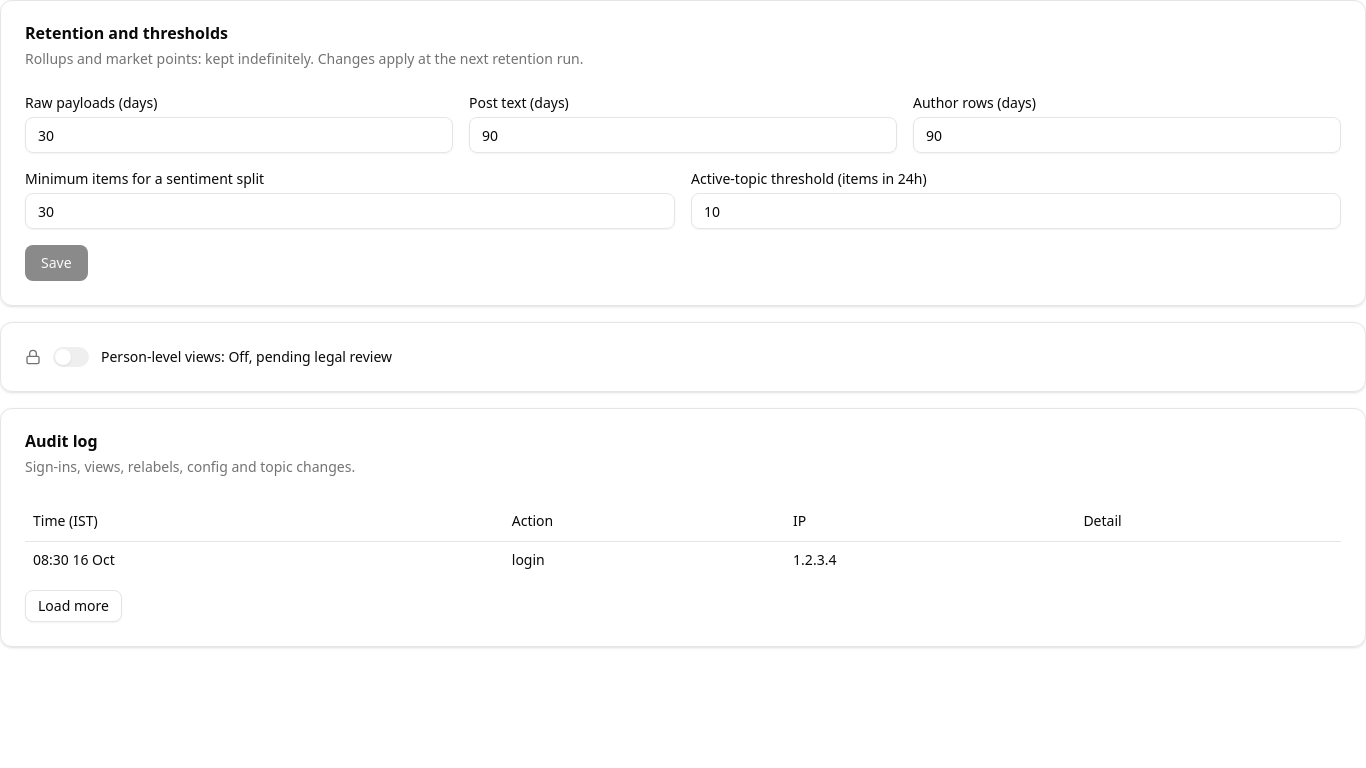
Scenario: AccessTab › shows the audit rows with Load more
This screenshot has width=1366, height=768.
Check: the text "login" is shown, box [504,541,785,578]
Click the button "Load more": (73, 606) [25,590,122,622]
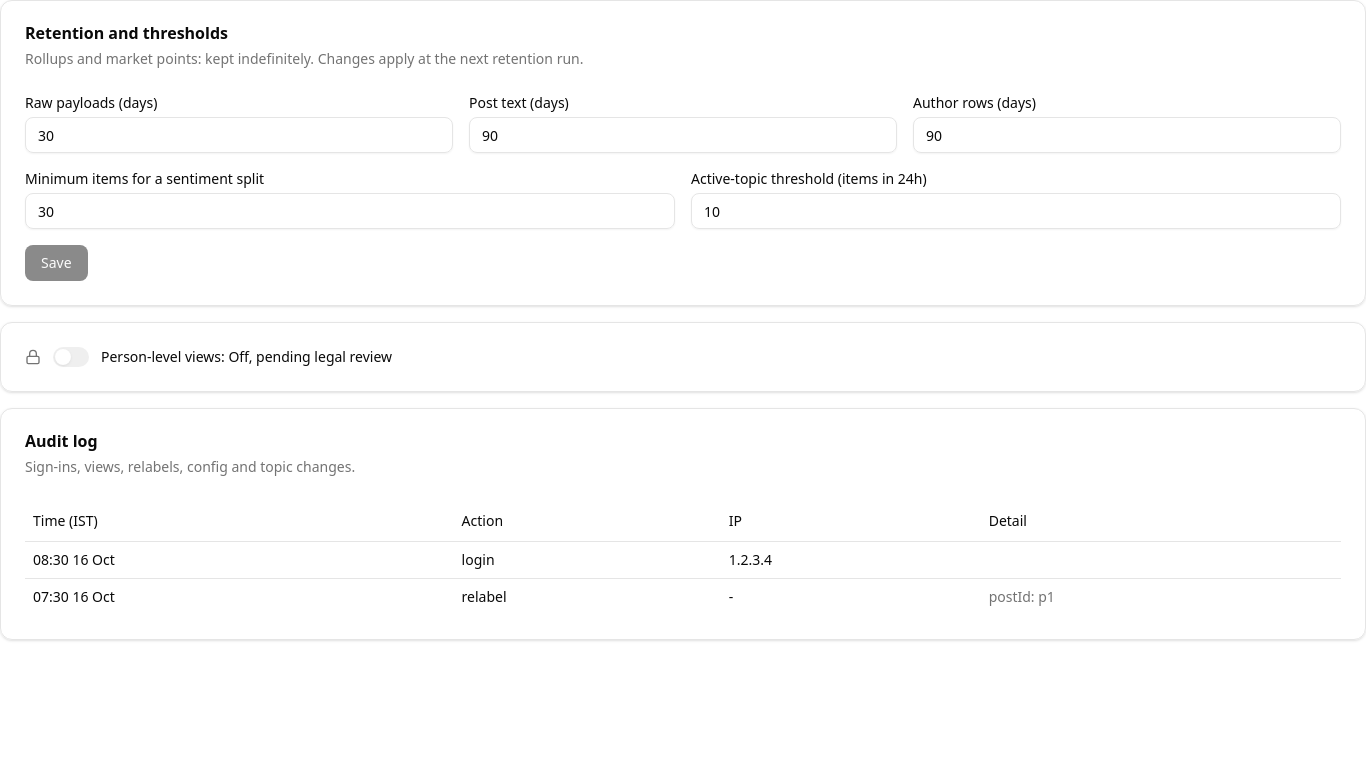
Check: the text "relabel" is shown, box [454,578,721,614]
Check: the button "Load more" is gone
